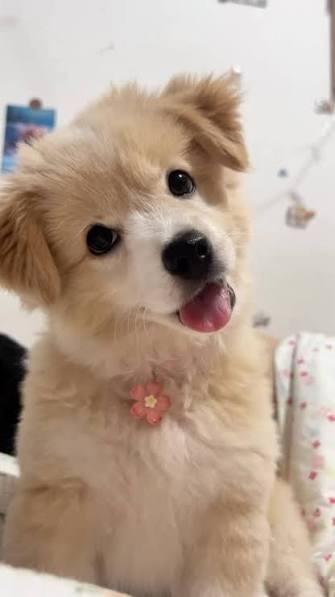puppy-dog: (1, 68, 334, 597)
